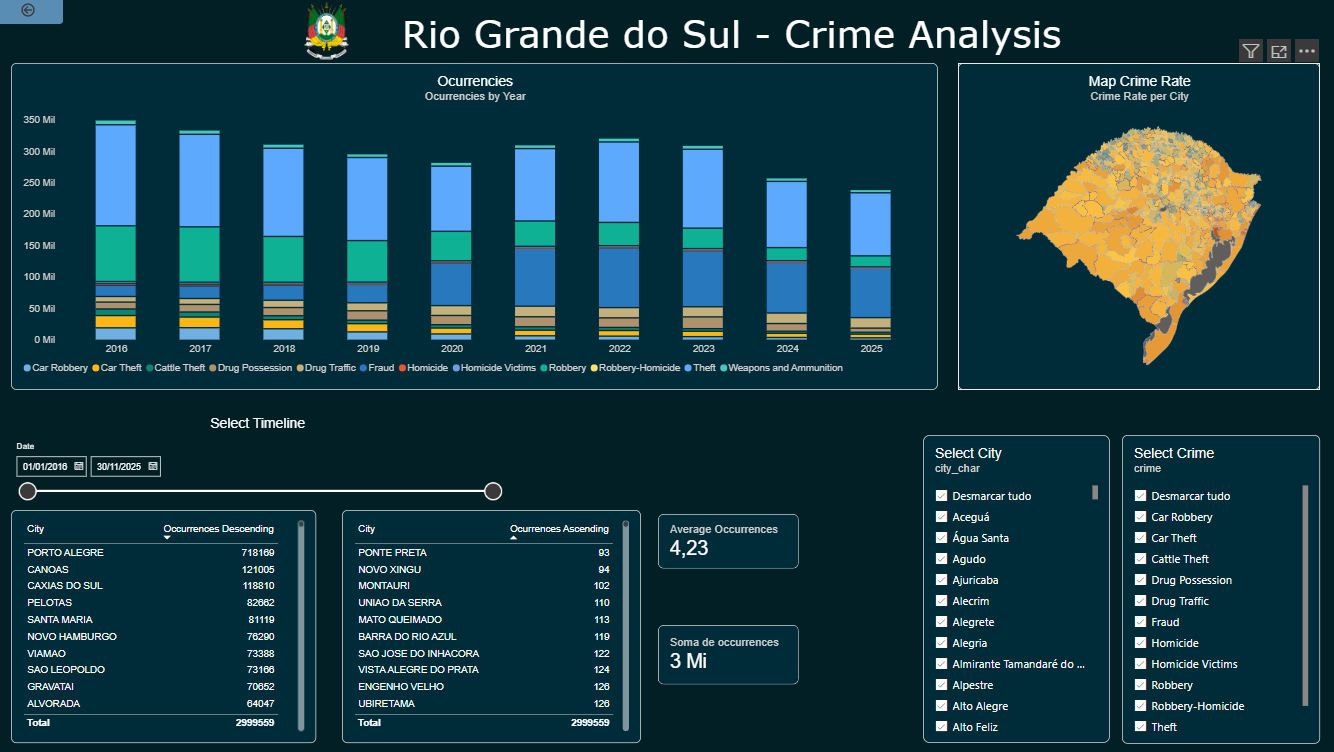

The dashboard page shown, as its layout file describes it:
{"tool":"powerbi","page":{"name":"Main","canvas":[1920,1080],"ordinal":0},"visuals":[{"type":"columnChart","title":"Ocurrencies","fields":{"Category":["public vw_crimes_powerbi.date.Variation.Hierarquia de datas.Ano","public vw_crimes_powerbi.date.Variation.Hierarquia de datas.Mês"],"Series":["public vw_crimes_powerbi.crime"],"Y":["Sum(public vw_crimes_powerbi.occurrences)"]},"box":[25.7,95.7,1324.3,467.1],"z":0},{"type":"actionButton","box":[0,0,100,40],"z":1000},{"type":"listSlicer","title":"Select Crime","fields":{"Values":["public vw_crimes_powerbi.crime"]},"box":[1612.9,627.1,283.3,440.7],"z":2000},{"type":"shapeMap","title":"Map Crime Rate","fields":{"Category":["public vw_crimes_powerbi.city_char"],"Value":["Sum(public vw_crimes_powerbi.crime_rate)"]},"box":[1378.6,95.7,517.1,467.1],"z":3000},{"type":"listSlicer","title":"Select City","fields":{"Values":["public vw_crimes_powerbi.city_char"]},"box":[1328.6,627.1,267.1,440],"z":4000},{"type":"slicer","title":"Select Timeline","fields":{"Values":["public vw_crimes_powerbi.date"]},"box":[25.3,598.5,704.7,124],"z":5000},{"type":"tableEx","fields":{"Values":["public vw_crimes_powerbi.city","Sum(public vw_crimes_powerbi.occurrences)"]},"box":[25.7,734.3,435.7,332.9],"z":6000},{"type":"tableEx","fields":{"Values":["public vw_crimes_powerbi.city","Sum(public vw_crimes_powerbi.occurrences)"]},"box":[498.6,734.3,427.5,332.6],"z":7000},{"type":"cardVisual","fields":{"Data":["Avg(public vw_crimes_powerbi.occurrences)"]},"box":[950,740,201.4,78.6],"z":8000},{"type":"cardVisual","fields":{"Data":["Sum(public vw_crimes_powerbi.occurrences)"]},"box":[950,898.6,201.4,85.7],"z":10000},{"type":"textbox","box":[584.3,20,1170,75.7],"z":11000},{"type":"textbox","box":[100,100,667.1,47.1],"z":12000},{"type":"image","box":[378,5.3,195.3,85.3],"z":13000}]}

Visuals, with their boxes in screenshot pixels (x1, y1, x2, y2), scaled from the page's 1920x1080 canvas onto the 1334x752 screenshot:
"Ocurrencies" columnChart: (18, 67, 938, 392)
actionButton: (0, 0, 69, 28)
"Select Crime" listSlicer: (1121, 437, 1317, 744)
"Map Crime Rate" shapeMap: (958, 67, 1317, 392)
"Select City" listSlicer: (923, 437, 1109, 743)
"Select Timeline" slicer: (18, 417, 507, 503)
tableEx - public vw_crimes_powerbi.city x Sum(public vw_crimes_powerbi.occurrences): (18, 511, 321, 743)
tableEx - public vw_crimes_powerbi.city x Sum(public vw_crimes_powerbi.occurrences): (346, 511, 643, 743)
cardVisual - Avg(public vw_crimes_powerbi.occurrences): (660, 515, 800, 570)
cardVisual - Sum(public vw_crimes_powerbi.occurrences): (660, 626, 800, 685)
textbox: (406, 14, 1219, 67)
textbox: (69, 70, 533, 102)
image: (263, 4, 398, 63)
